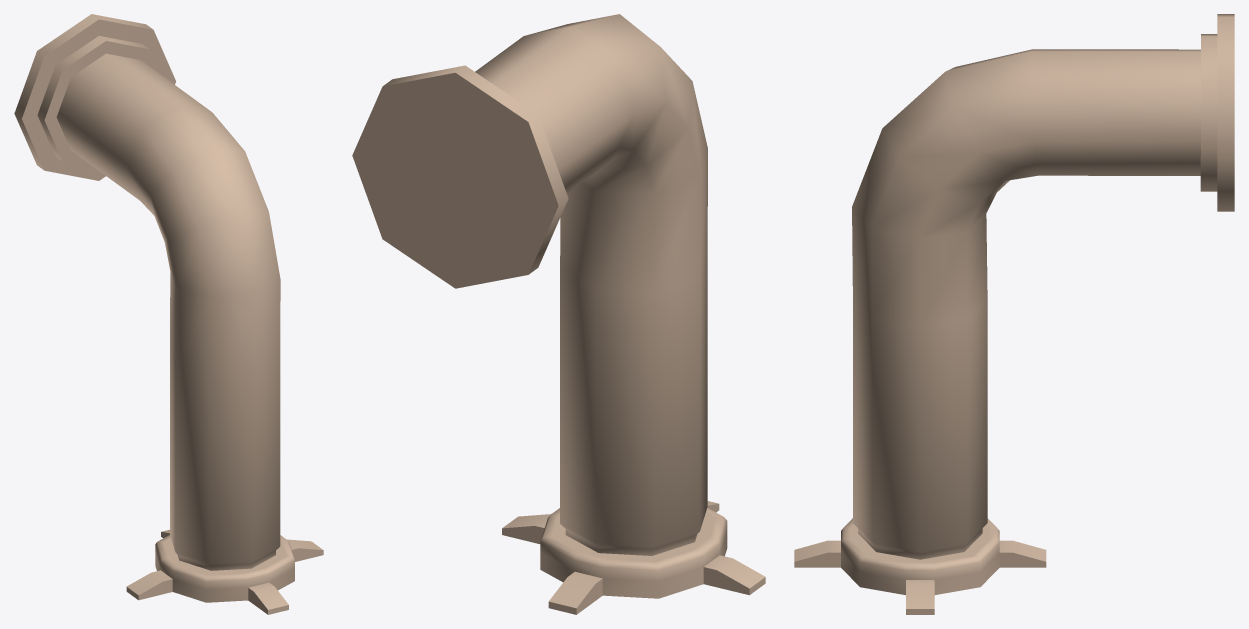
The model's file is uploads_files_2027070_Tube_01.fbx.
The picture shows the model from 3 angles, left to right: view 1: azimuth 30°, elevation 25°; view 2: azimuth 150°, elevation 25°; view 3: azimuth 270°, elevation 25°; orthographic projection. The views are drawn at different scales.
Parts seen in each view (by area): view 1: Tube_01; view 2: Tube_01; view 3: Tube_01.
Boxes of the visible parts, bbox=[...] form: Tube_01: bbox=[14, 14, 323, 614]; Tube_01: bbox=[352, 14, 765, 614]; Tube_01: bbox=[794, 14, 1234, 614].
Bounding box in the file's own units: 44.91 × 107 × 78.53.
